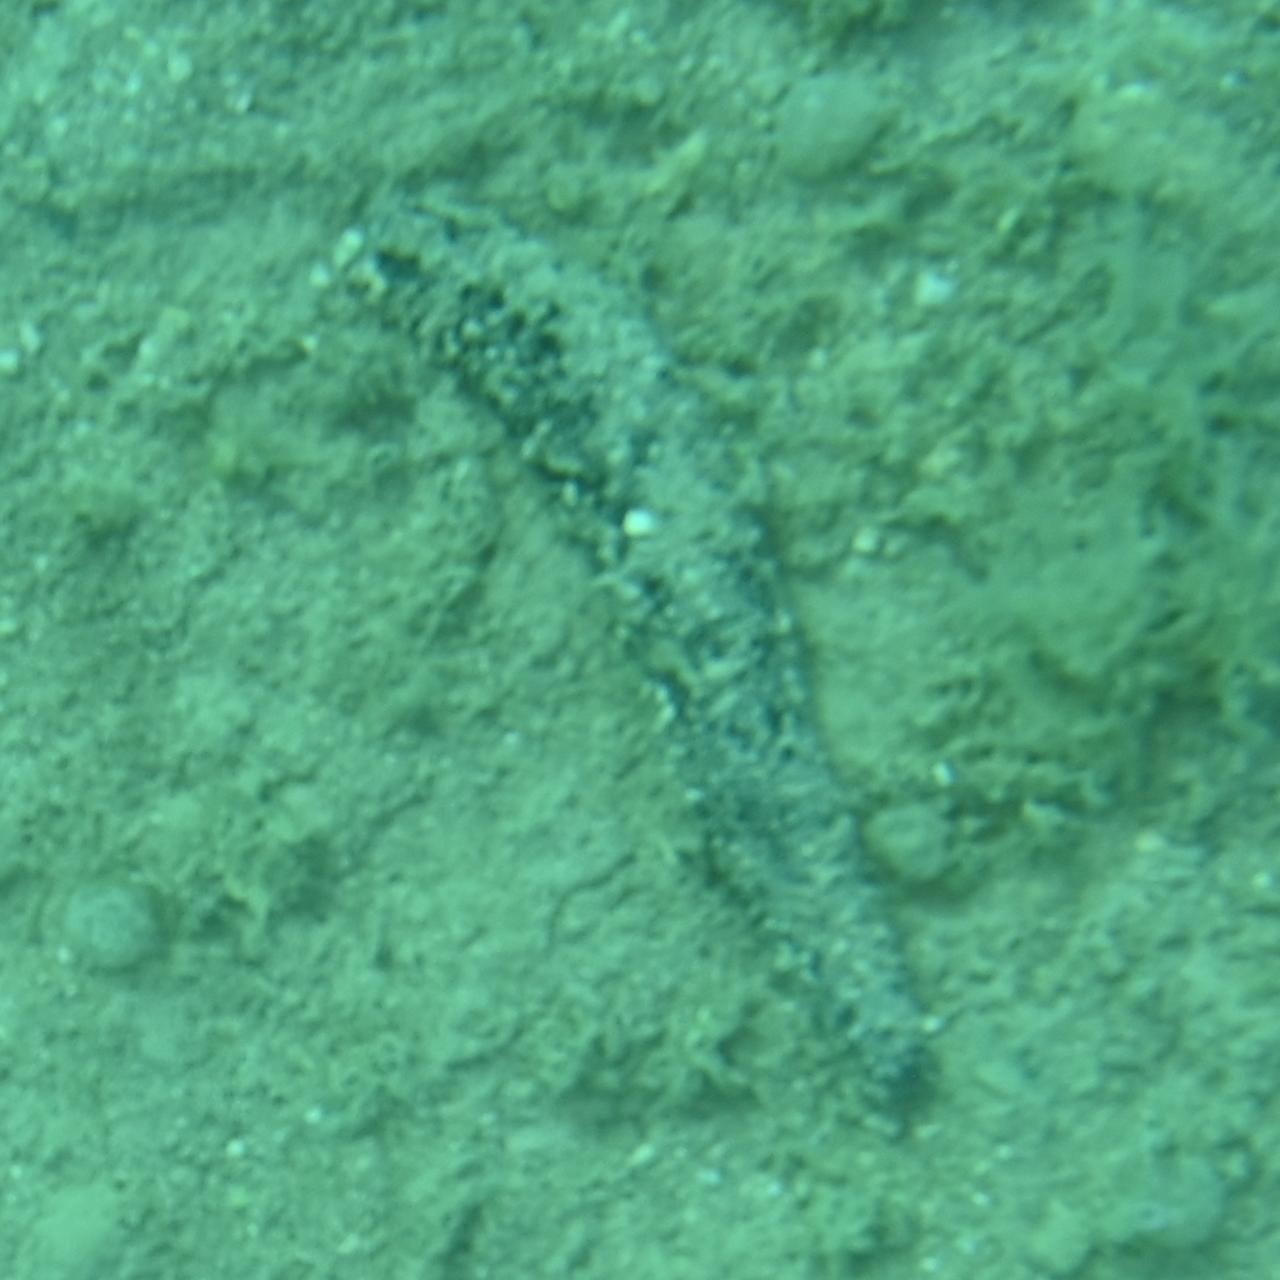Holothuria tubulosa: (322, 178, 958, 1102)
